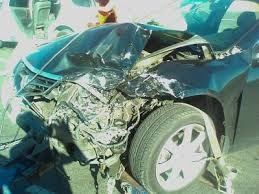Broken-glass: (70, 86, 121, 117)
Dent: (57, 26, 139, 81)
Smashed: (30, 38, 215, 187)
